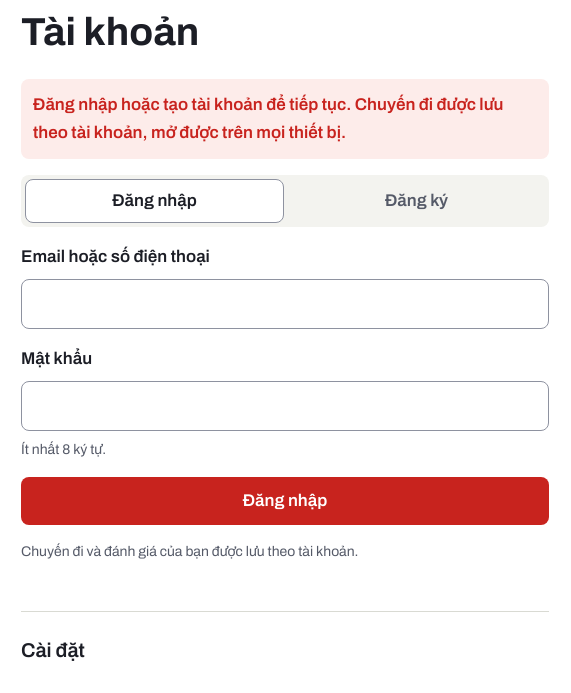
Test: account page › returns to the page that asked for an account once signed in
Type "lan@example.com" into the field labelled "Email hoặc số điện thoại" at (285, 304), box [21,279,549,329]
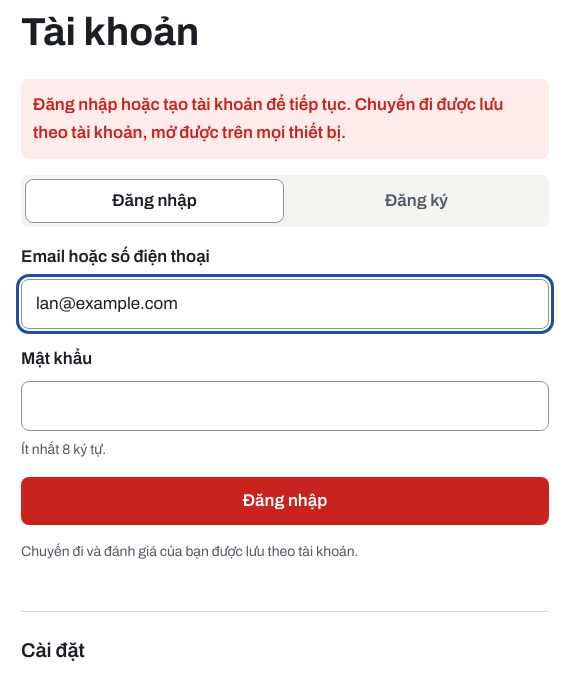
Type "secret-pass" into the password field labelled "Mật khẩu" at (285, 406), box [21,381,549,431]
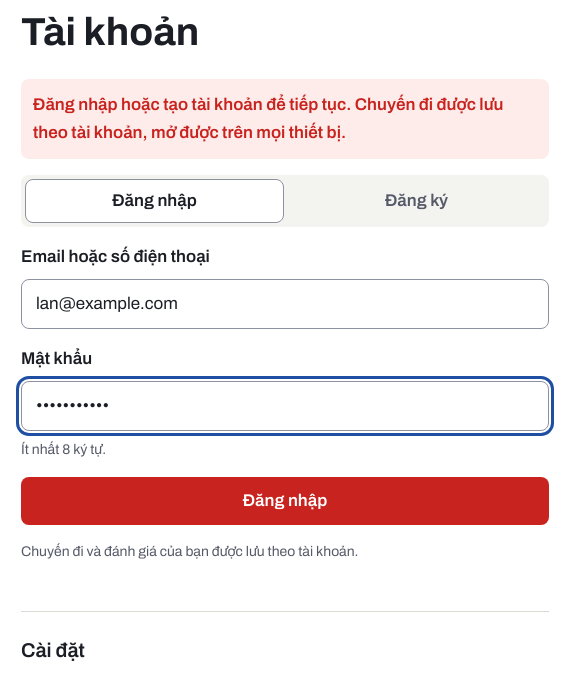
Click the button "Đăng nhập" at (285, 501), box [21,477,549,525]
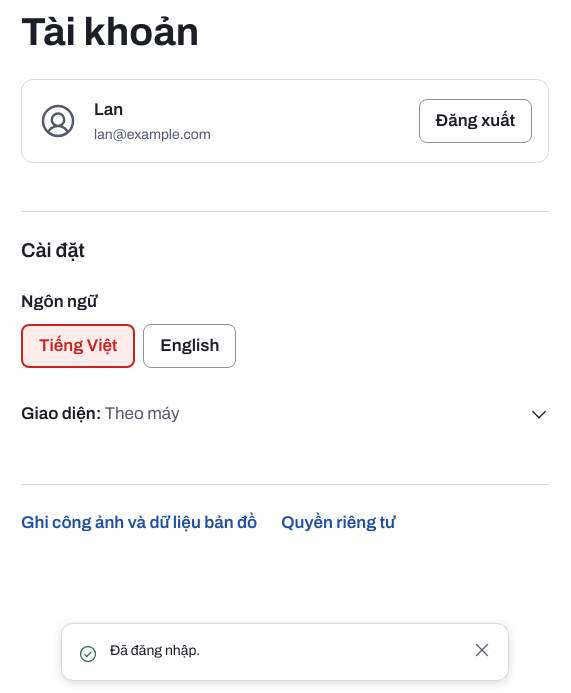
Check: the text "Đăng nhập hoặc tạo tài khoản để tiếp tục" is gone
